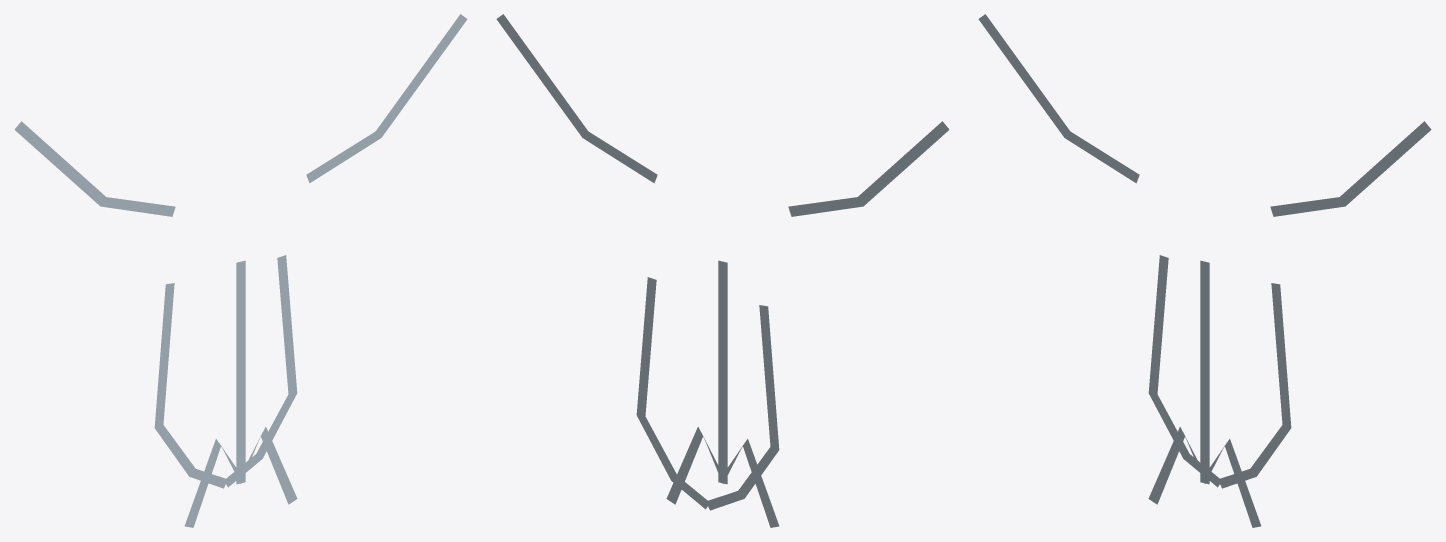
Rendered from Eula_ShatteredLightfallSword_LightfallInlay.fbx.
3 views of the same model, side by side, from view 1: azimuth 30°, elevation 25°; view 2: azimuth 150°, elevation 25°; view 3: azimuth 330°, elevation 25° (orthographic).
Visible parts, largest first — view 1: PART_SwordLuminousInlay_0, PART_BladeColdBevel_-1, PART_SwordLuminousInlay_3, PART_SwordLuminousInlay_2, PART_BladeColdBevel_1, PART_SwordLuminousInlay_1; view 2: PART_BladeColdBevel_1, PART_BladeColdBevel_-1, PART_SwordLuminousInlay_0, PART_SwordLuminousInlay_3, PART_SwordLuminousInlay_2, PART_SwordLuminousInlay_1; view 3: PART_SwordLuminousInlay_0, PART_BladeColdBevel_1, PART_SwordLuminousInlay_2, PART_SwordLuminousInlay_3, PART_BladeColdBevel_-1, PART_SwordLuminousInlay_1.
Part boxes in pixels (x1=…): PART_SwordLuminousInlay_0: x1=236, y1=260, x2=245, y2=484; PART_BladeColdBevel_-1: x1=154, y1=283, x2=227, y2=488; PART_SwordLuminousInlay_3: x1=306, y1=14, x2=467, y2=183; PART_SwordLuminousInlay_2: x1=14, y1=121, x2=175, y2=216; PART_BladeColdBevel_1: x1=224, y1=255, x2=297, y2=487; PART_SwordLuminousInlay_1: x1=184, y1=427, x2=297, y2=527; PART_BladeColdBevel_1: x1=636, y1=277, x2=709, y2=509; PART_BladeColdBevel_-1: x1=706, y1=305, x2=779, y2=510; PART_SwordLuminousInlay_0: x1=718, y1=260, x2=727, y2=484; PART_SwordLuminousInlay_3: x1=496, y1=14, x2=657, y2=183; PART_SwordLuminousInlay_2: x1=788, y1=121, x2=949, y2=216; PART_SwordLuminousInlay_1: x1=666, y1=427, x2=779, y2=527; PART_SwordLuminousInlay_0: x1=1200, y1=260, x2=1209, y2=484; PART_BladeColdBevel_1: x1=1218, y1=283, x2=1291, y2=488; PART_SwordLuminousInlay_2: x1=978, y1=14, x2=1139, y2=183; PART_SwordLuminousInlay_3: x1=1270, y1=121, x2=1431, y2=216; PART_BladeColdBevel_-1: x1=1148, y1=255, x2=1221, y2=487; PART_SwordLuminousInlay_1: x1=1148, y1=427, x2=1261, y2=527.
Bounding box in the file's own units: 122 × 115 × 7.
